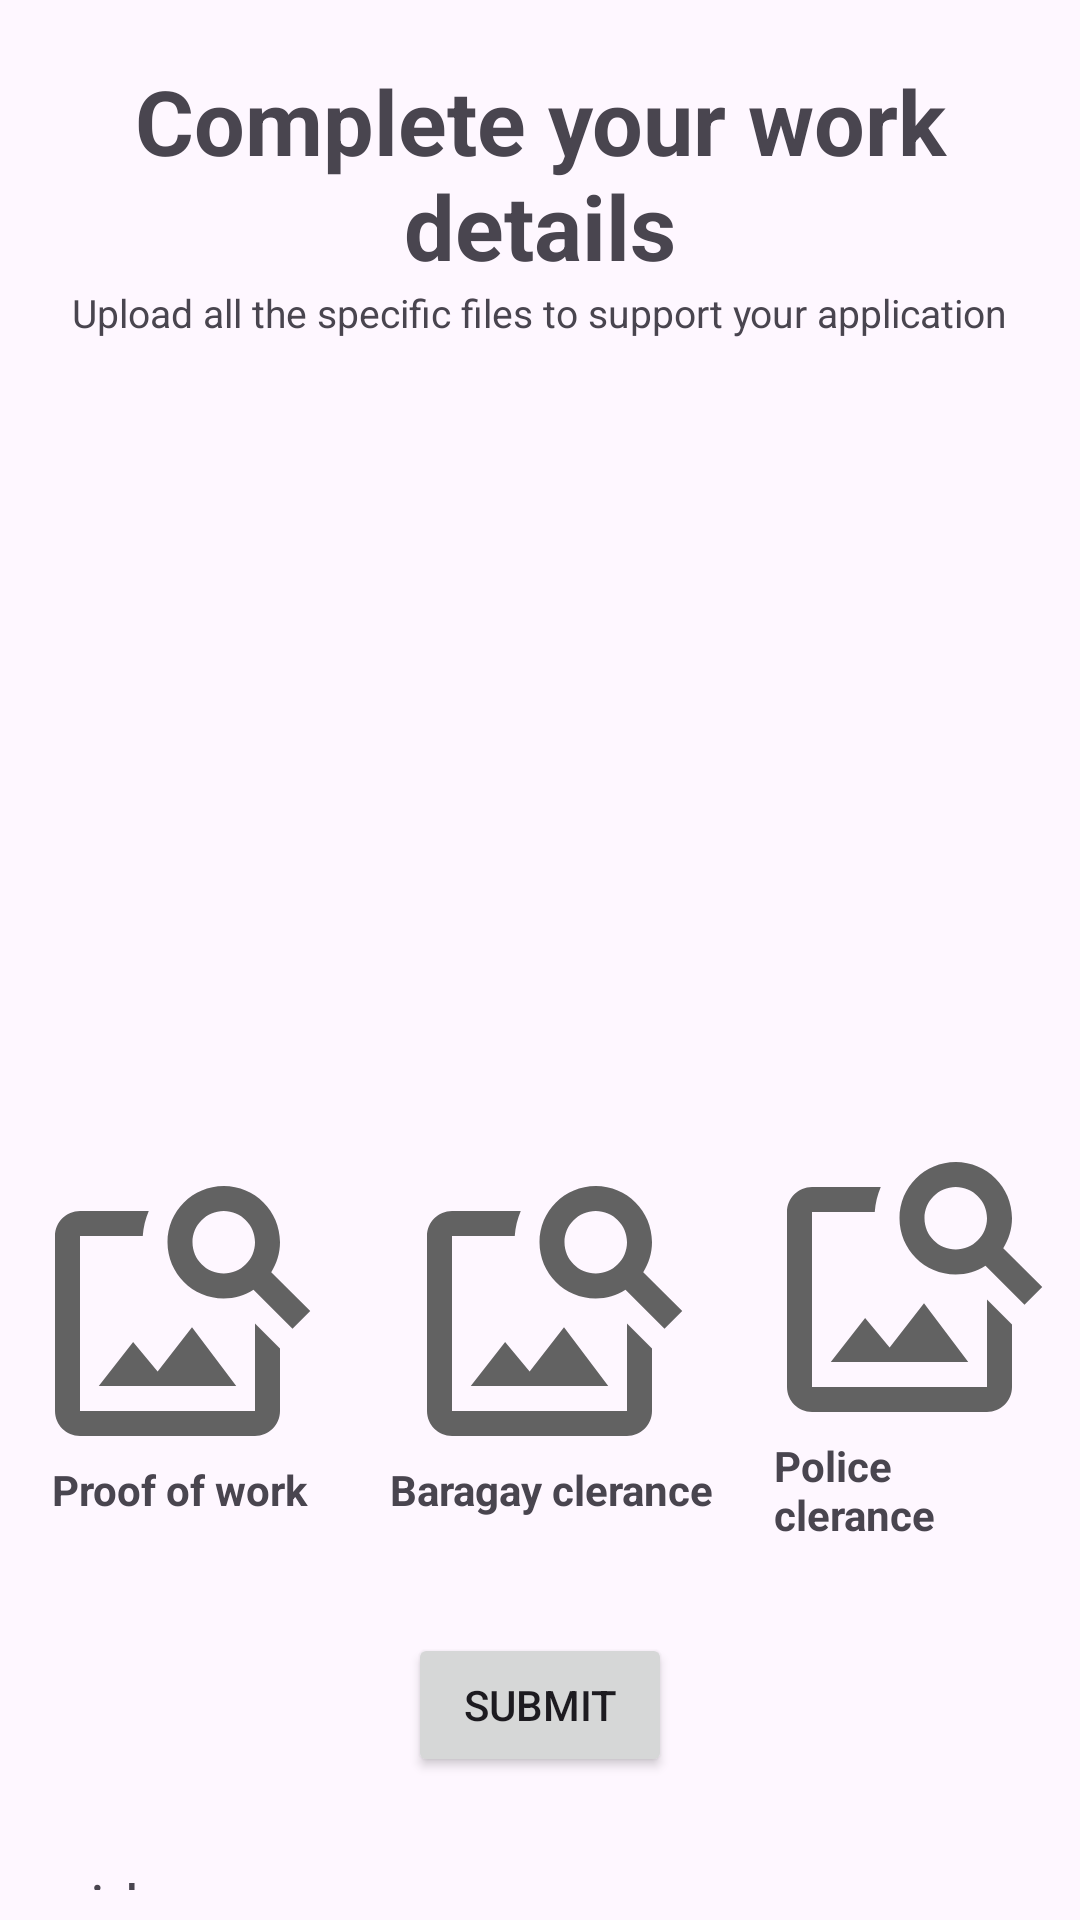

Locate icon controls on the screen. Image size 1080px x 1920px, boxes as (x1, y1, x2, y2).
search: (787, 1162, 1042, 1412), (55, 1186, 310, 1436), (427, 1186, 682, 1436)
